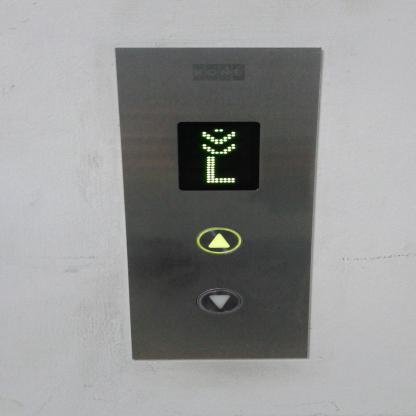down: (196, 287, 243, 316)
led: (172, 117, 266, 194)
up: (194, 226, 242, 256)
